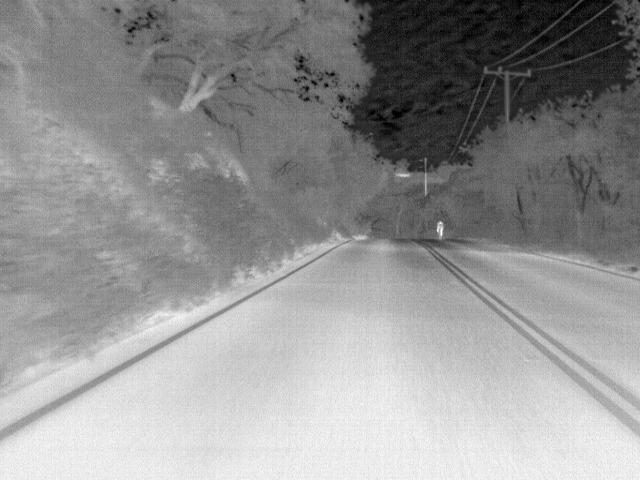person: (435, 219, 447, 241)
